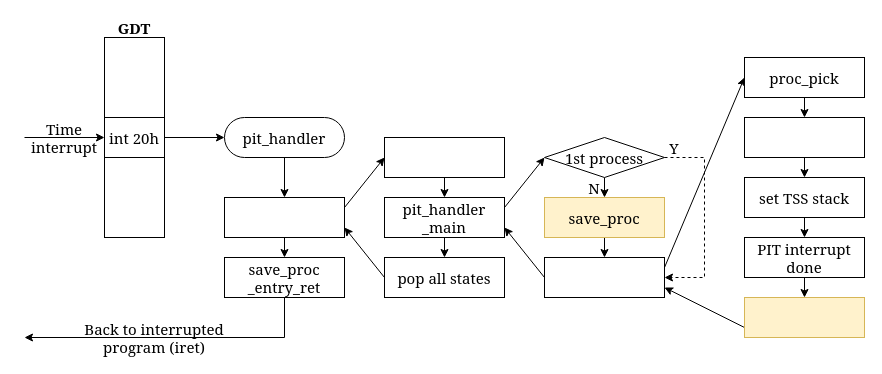
This 882x374 diagram has some shape labels left out. Here are the shapes that lost their labels. From the top down, the box of each, then its label:
(384, 136, 504, 178): push all states
(744, 116, 864, 158): set process states
(224, 196, 344, 238): save_proc_entry
(544, 256, 664, 298): schedule_proc
(744, 296, 864, 338): restart_proc
